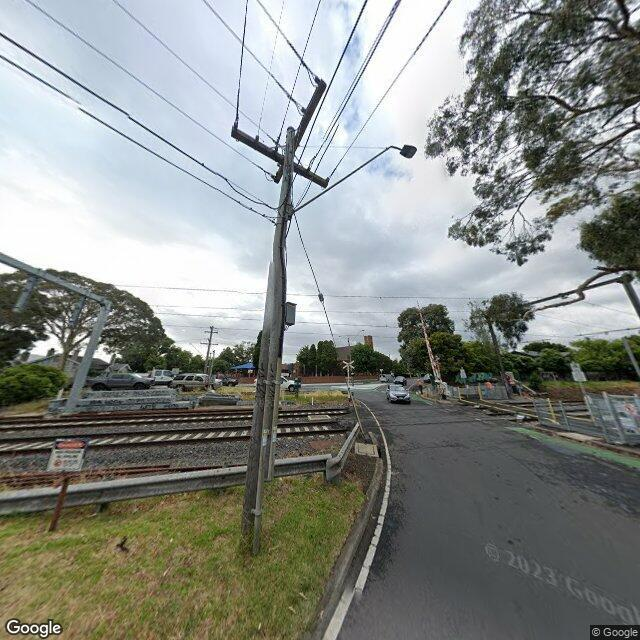crossarm: (231, 120, 329, 189), (268, 77, 328, 184), (200, 342, 218, 346), (204, 330, 218, 334)
streetlight: (288, 144, 418, 218)
timber-pole: (238, 125, 297, 556), (204, 326, 214, 373)
